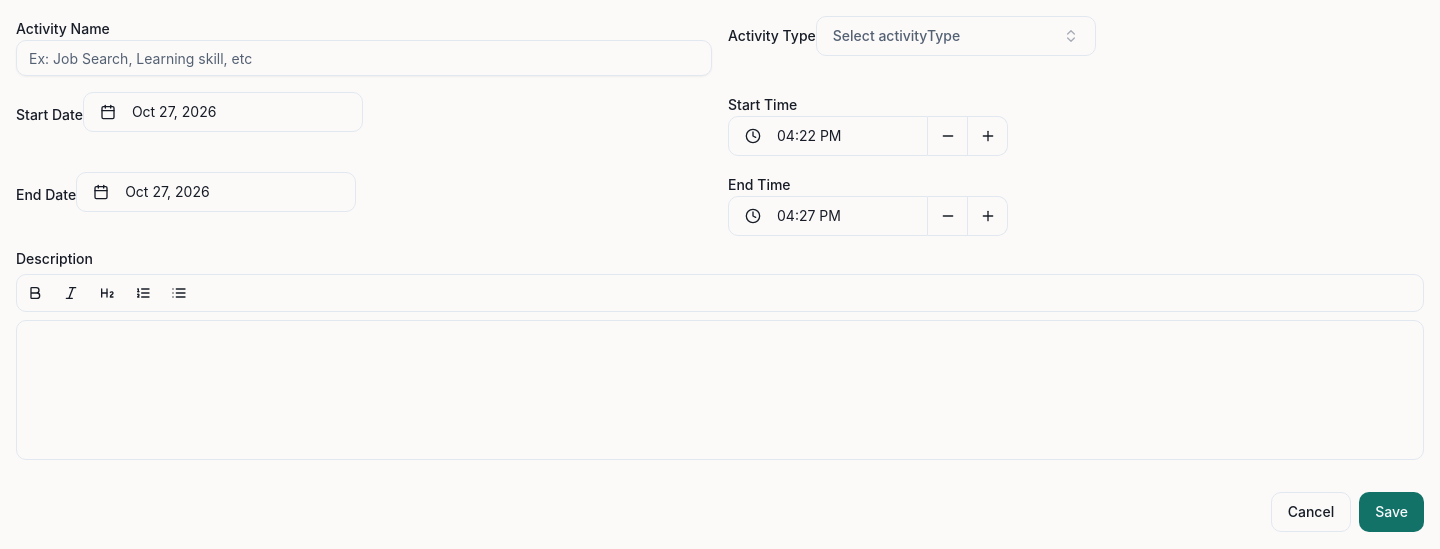
it: ActivityForm › recalculates the duration when the end time is stepped
Expected: the text "Activity Name" is shown, [16,20,110,37]
Note: Start Time then End Time, in DOM order
Click the button named "5 minutes later" below "End Time" at (988, 216), box [968,196,1008,236]
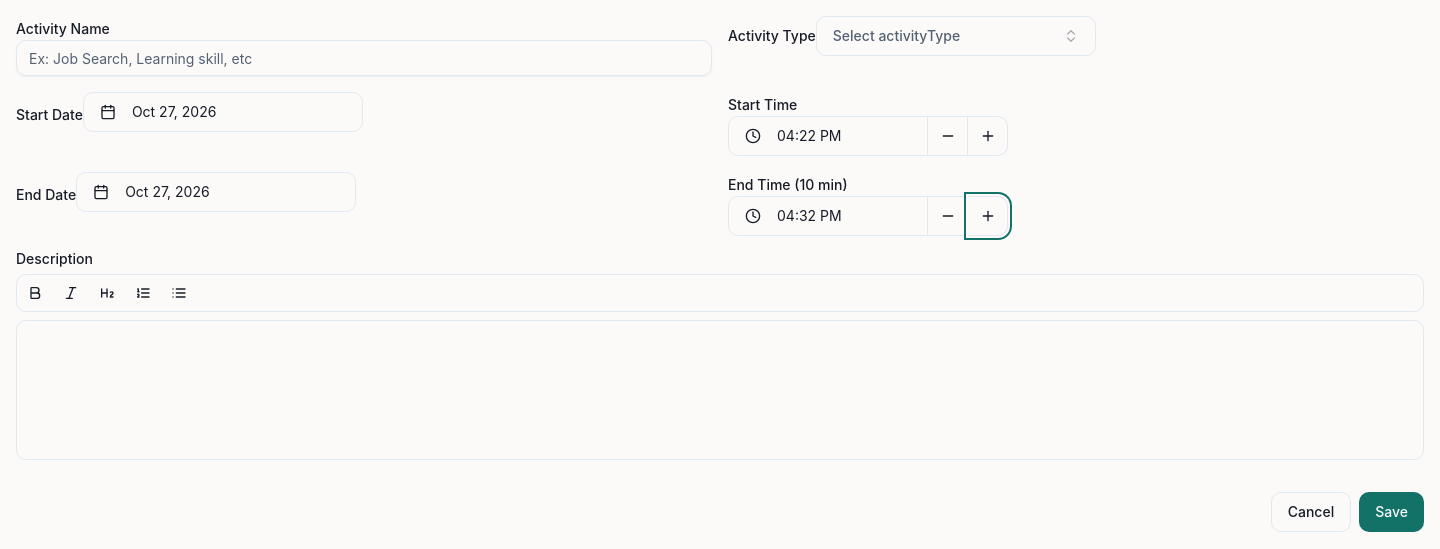
Expected: the text "(10 min)" is shown, [791,176,848,193]
